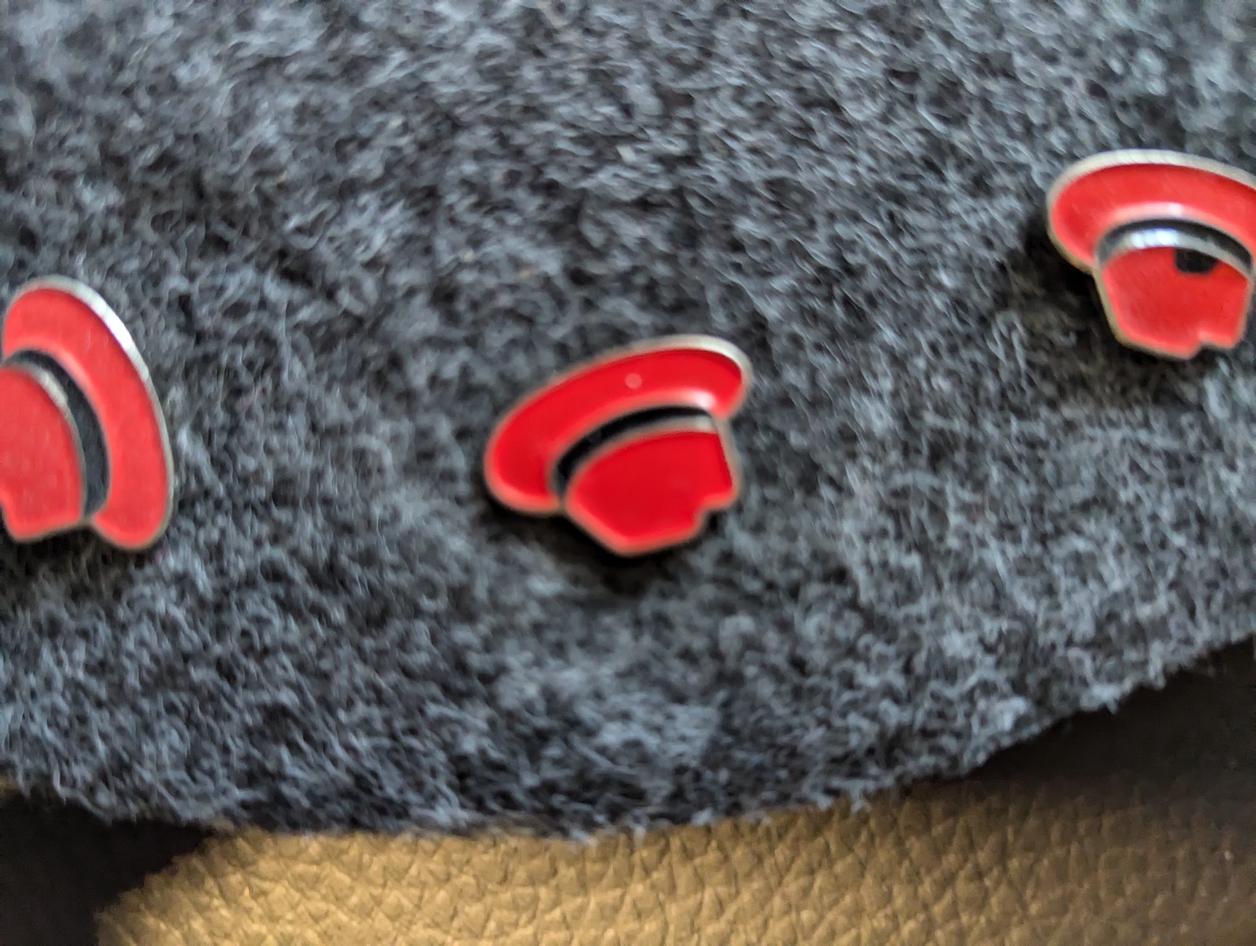Red-Hat: (458, 315, 762, 572), (1009, 117, 1256, 375), (0, 243, 185, 579)
Scratch: (1163, 232, 1221, 281)
